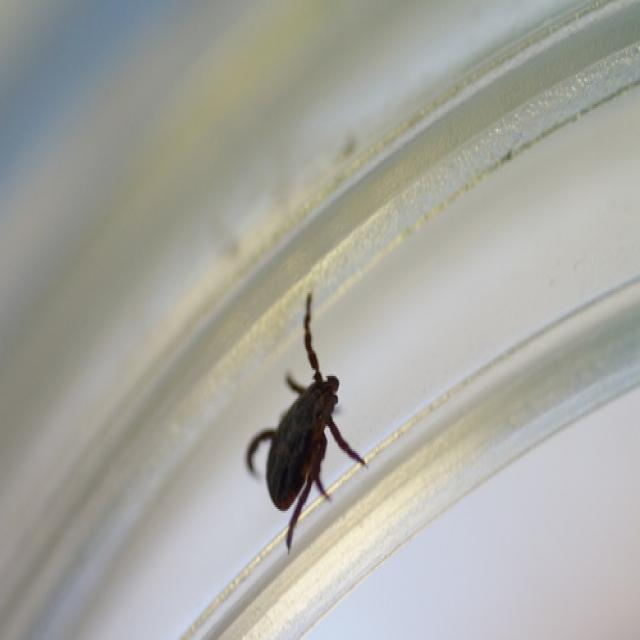Dermacentor Reticulatus-M: (247, 295, 367, 549)
